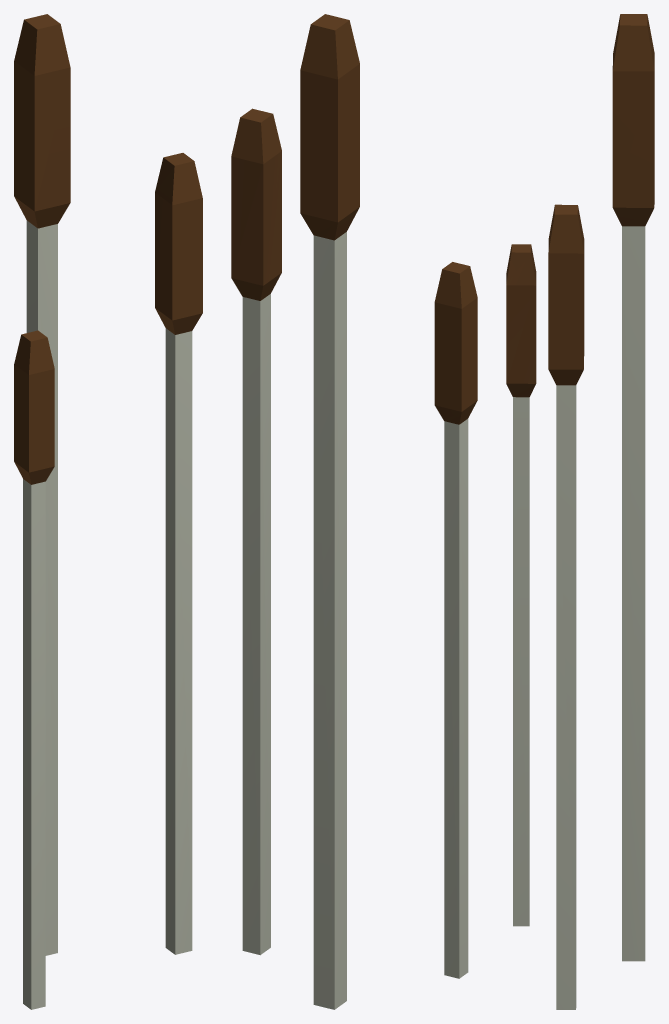
The model's file is reed_cattail.glb.
3 views of the same model, side by side, from view 1: azimuth 30°, elevation 25°; view 2: azimuth 150°, elevation 25°; view 3: azimuth 270°, elevation 25° (orthographic). The views are drawn at different scales.
Parts seen in each view (by area): view 1: Reed Single; view 2: Reed Single; view 3: Reed Single.
Boxes of the visible parts, bbox=[...] form: Reed Single: bbox=[14, 14, 202, 1009]; Reed Single: bbox=[231, 14, 477, 1009]; Reed Single: bbox=[506, 14, 654, 1009].
Bounding box in the file's own units: 0.1318 × 0.6 × 0.0862.
1 material, 1 textured.
